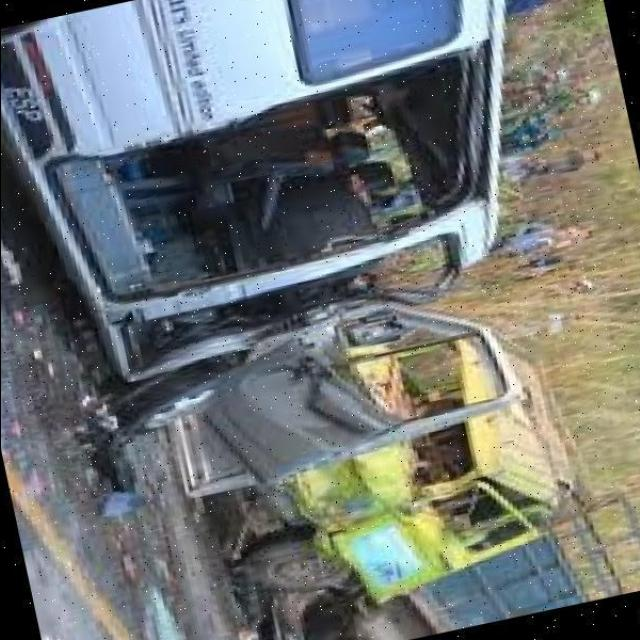accident: (36, 113, 636, 640)
